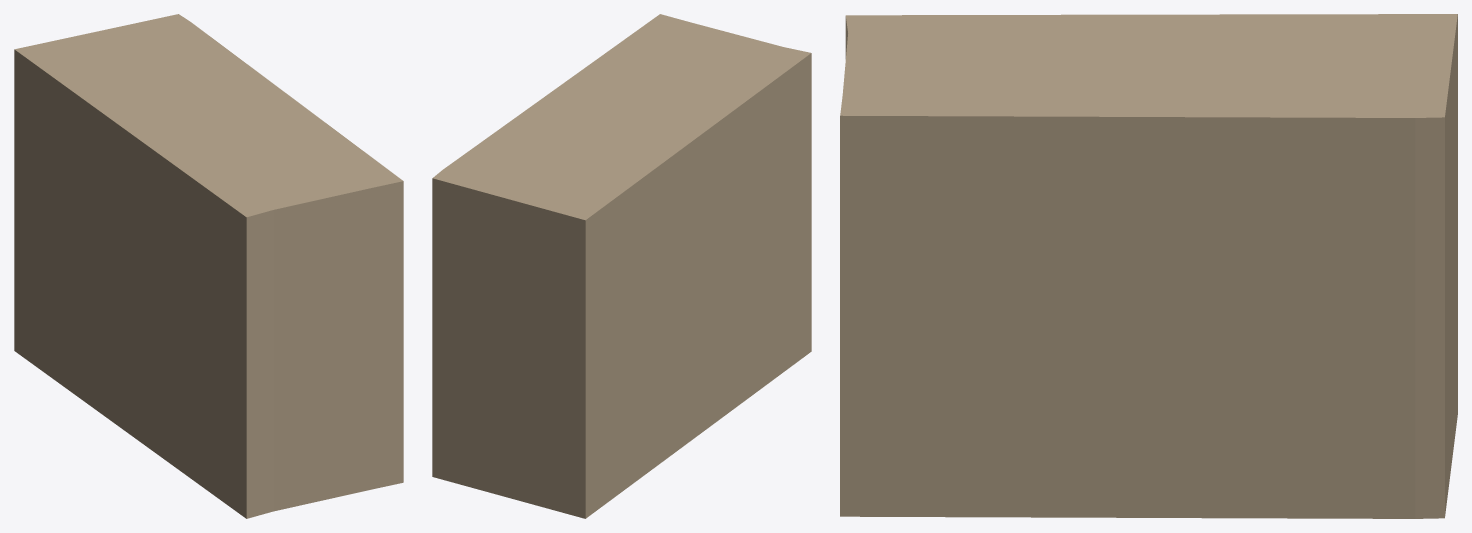
Rendered from bld_98768043.dae.
3 views of the same model, side by side, from view 1: azimuth 30°, elevation 25°; view 2: azimuth 150°, elevation 25°; view 3: azimuth 270°, elevation 25° (orthographic). The views are drawn at different scales.
Parts seen in each view (by area): view 1: Barnardo's; view 2: Barnardo's; view 3: Barnardo's.
Boxes of the visible parts, x1,y1,x2,y2 form: Barnardo's: (14, 14, 403, 518); Barnardo's: (432, 14, 811, 518); Barnardo's: (840, 14, 1457, 518).
Size of the model in its own units: 4.45 by 11.17 by 8.
